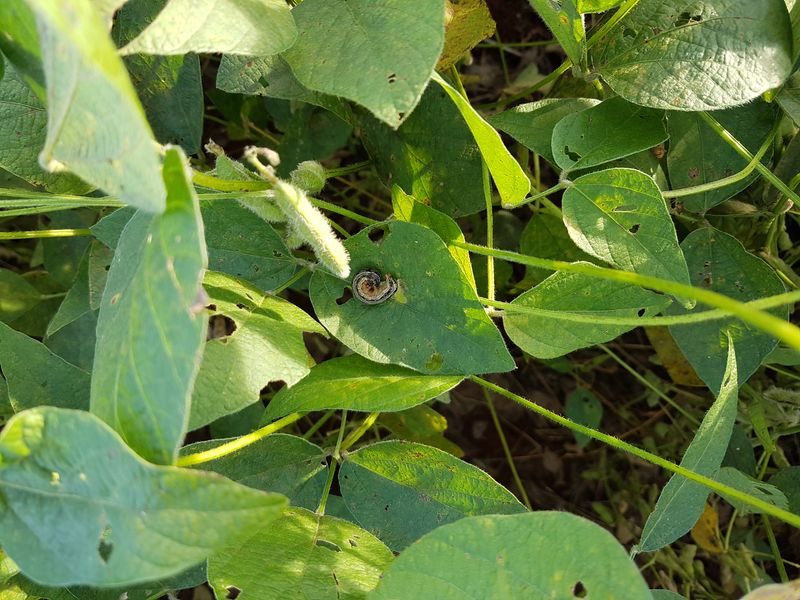Spodoptera_albula: (340, 263, 404, 316)
